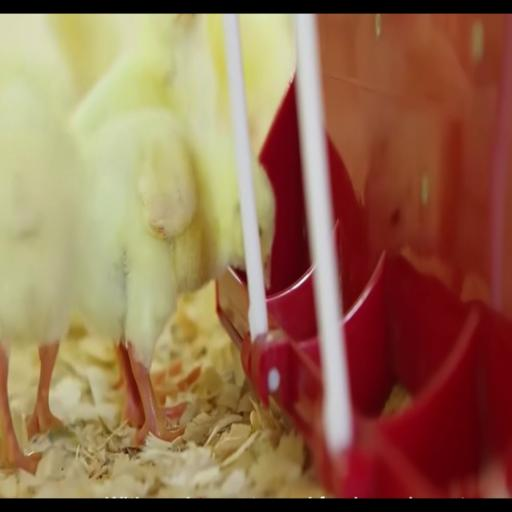chick: (76, 110, 243, 443), (0, 57, 80, 473)
